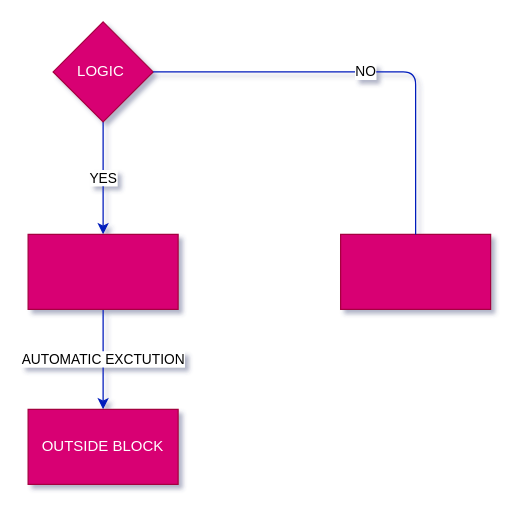
Some shapes in this 520 by 514 pixel diagram are drawn without their labels. Here are the shapes that lost their labels. From the top down, the centre of each, then its label:
At (x=102, y=271): "IF BLOCK".
At (x=415, y=271): "ELSE BLOCK".
